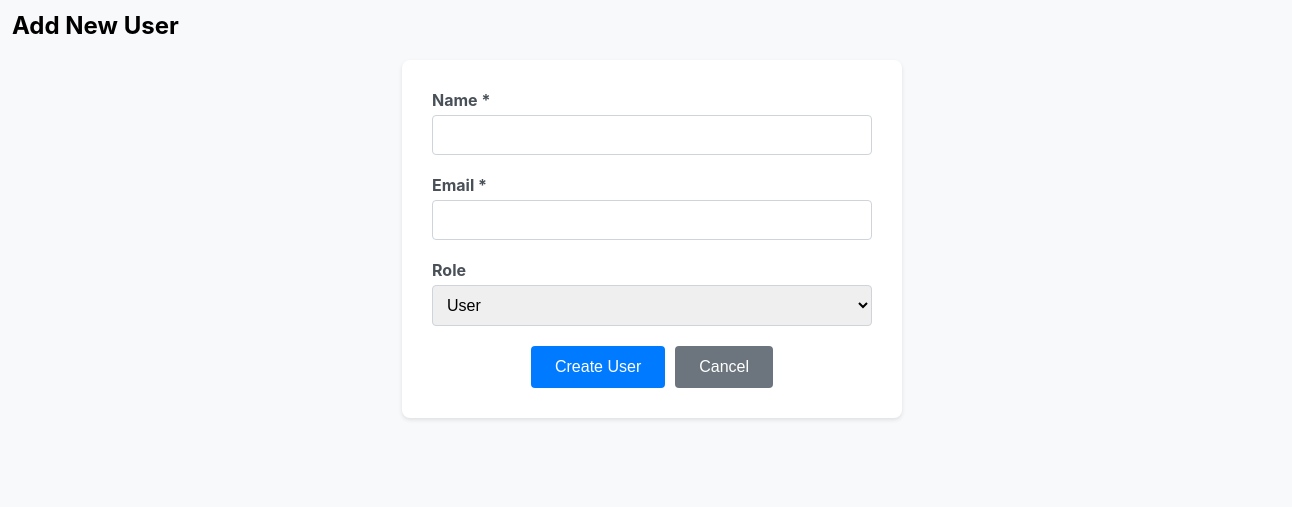
Test: AddUser Component › submits form with valid data
Type "Test User" into the field labelled "Name *" at (652,135), box [432,115,872,155]
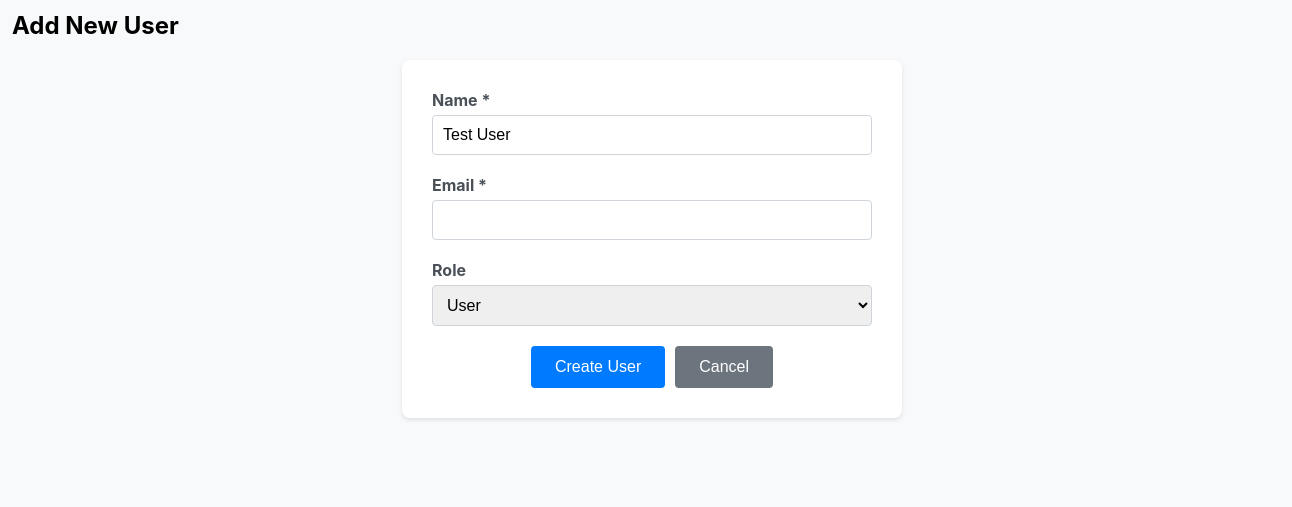
Type "test@example.com" into the field labelled "Email *" at (652,220), box [432,200,872,240]
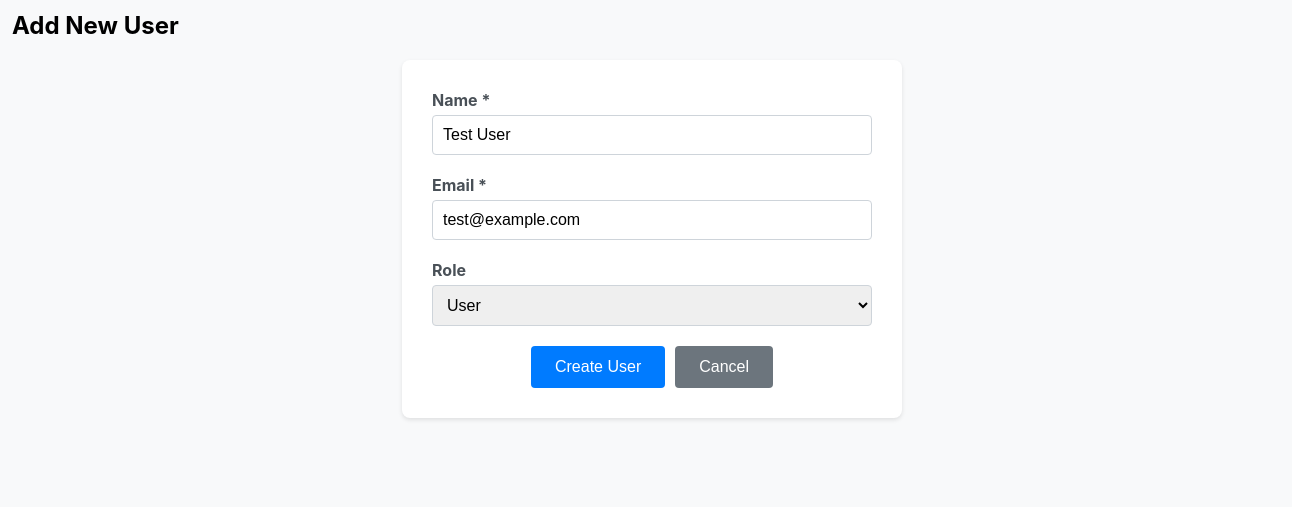
Click the button "Create User" at (598,367), box [531,346,665,388]
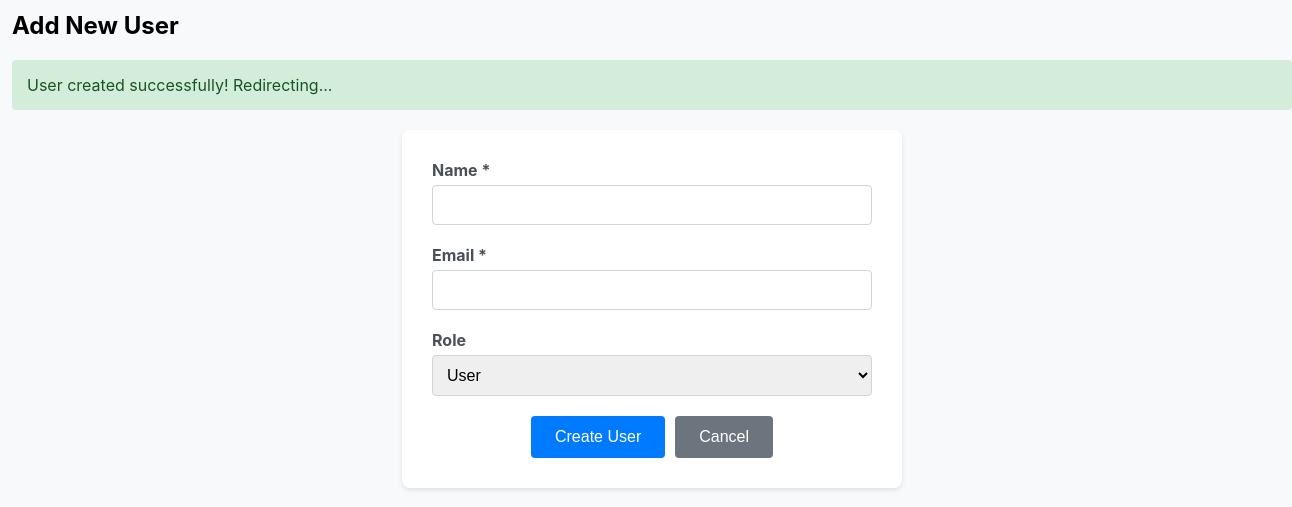
Expected: the text "User created successfully! Redirecting..." is shown, [12,60,1291,110]
